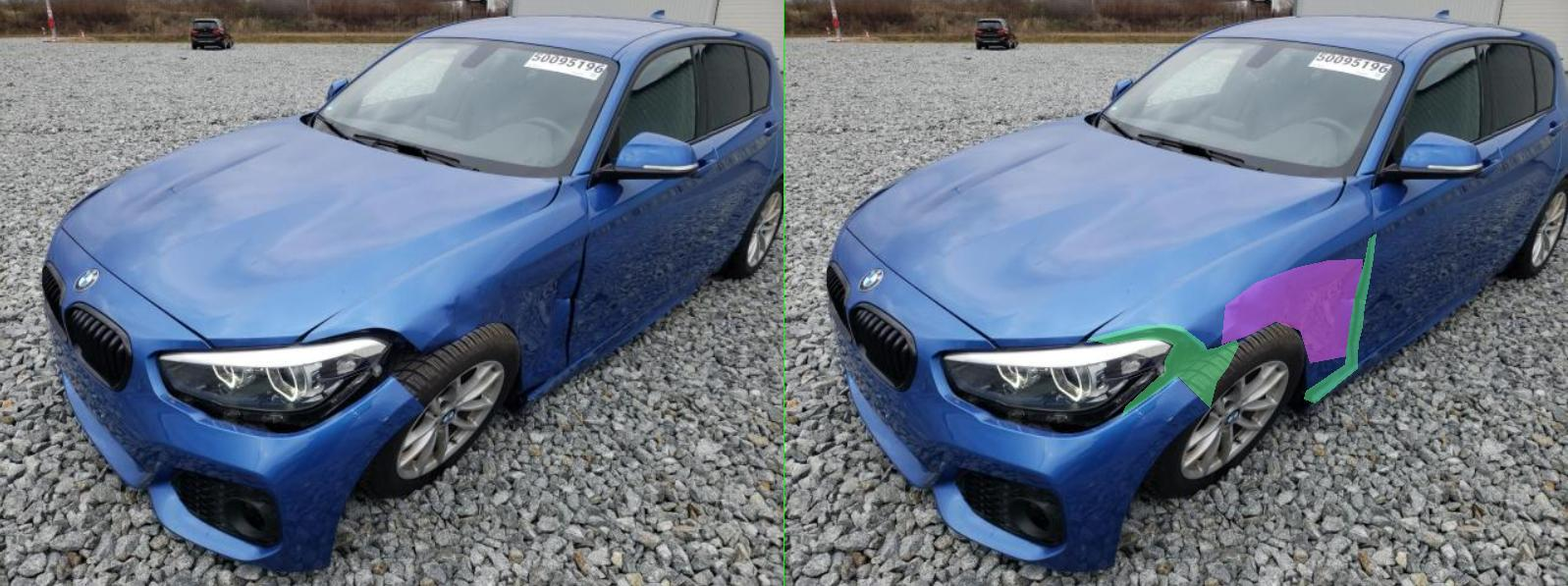Broken part: (607, 324, 908, 416), (1039, 234, 1183, 402)
Dent: (874, 259, 1155, 362)
